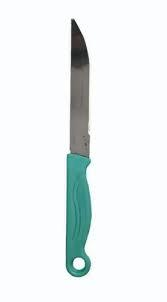Knife: (65, 17, 92, 276)
